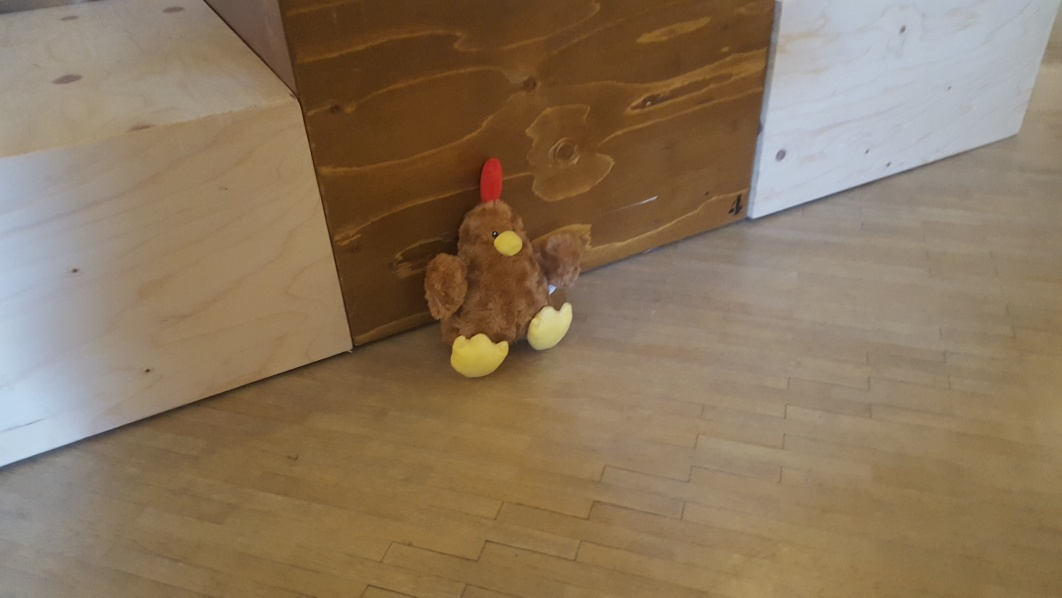chicken: (424, 160, 591, 380)
